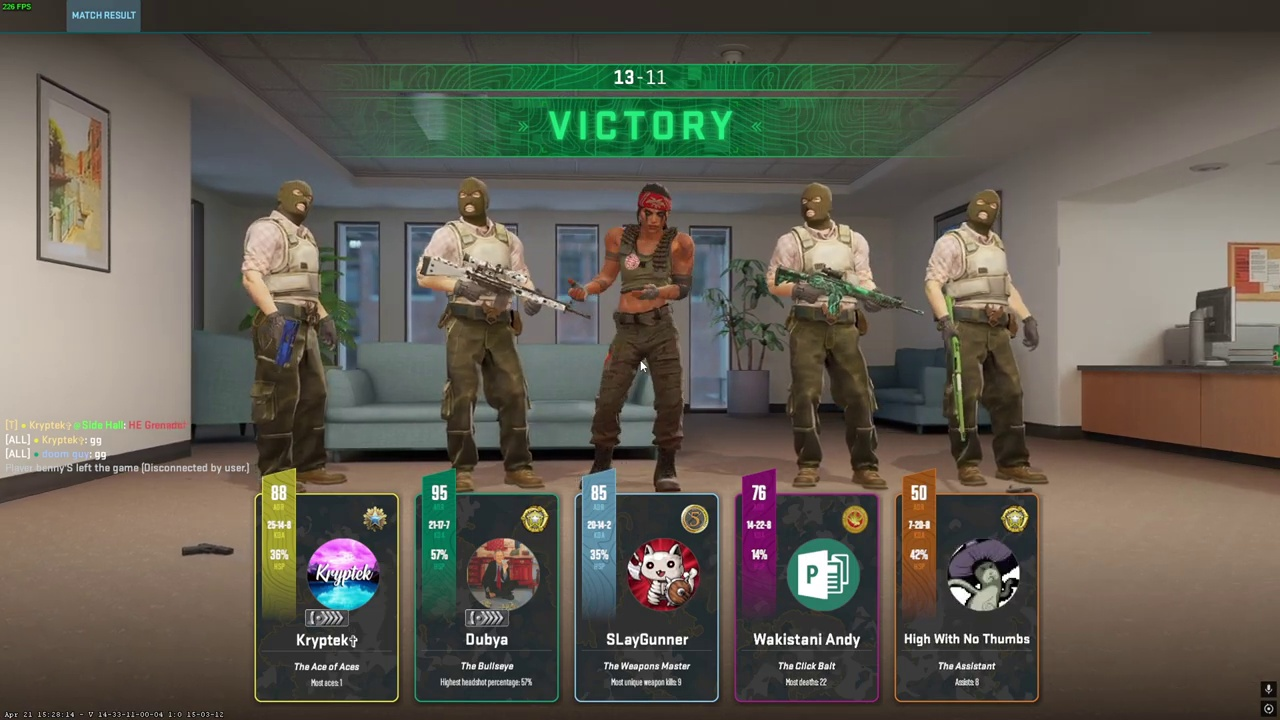Terrorist: (777, 182, 883, 487), (589, 183, 693, 490), (928, 189, 1032, 485), (241, 179, 339, 490), (436, 177, 533, 489)
